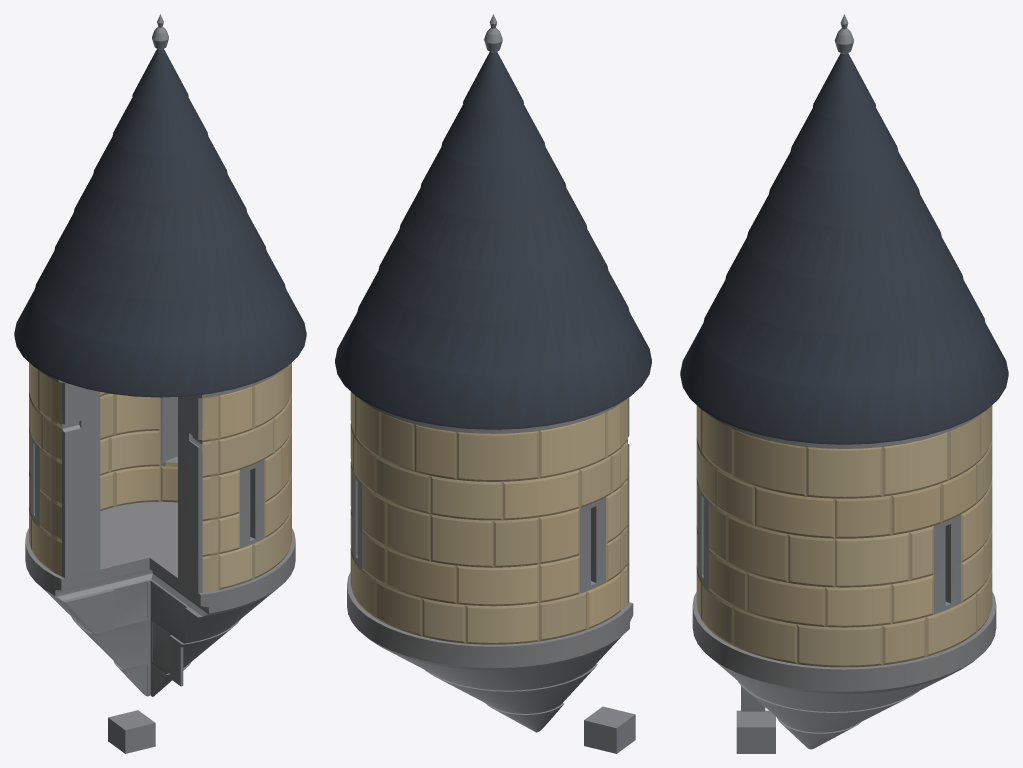
The picture shows the model from 3 angles, left to right: view 1: azimuth 30°, elevation 25°; view 2: azimuth 150°, elevation 25°; view 3: azimuth 270°, elevation 25°; orthographic projection. The views are drawn at different scales.
Visible parts, largest first — view 1: Mesh_Bartizan_ck-slate, Mesh_Bartizan_ck-granite-ashlar, Mesh_Bartizan_ck-limestone-ashlar; view 2: Mesh_Bartizan_ck-slate, Mesh_Bartizan_ck-limestone-ashlar, Mesh_Bartizan_ck-granite-ashlar; view 3: Mesh_Bartizan_ck-slate, Mesh_Bartizan_ck-limestone-ashlar, Mesh_Bartizan_ck-granite-ashlar.
Part boxes in pixels (bbox=[...]): Mesh_Bartizan_ck-slate: bbox=[14, 49, 306, 397]; Mesh_Bartizan_ck-granite-ashlar: bbox=[25, 14, 295, 753]; Mesh_Bartizan_ck-limestone-ashlar: bbox=[29, 362, 291, 592]; Mesh_Bartizan_ck-slate: bbox=[335, 52, 651, 429]; Mesh_Bartizan_ck-limestone-ashlar: bbox=[350, 391, 627, 644]; Mesh_Bartizan_ck-granite-ashlar: bbox=[347, 14, 635, 753]; Mesh_Bartizan_ck-slate: bbox=[680, 53, 1008, 444]; Mesh_Bartizan_ck-limestone-ashlar: bbox=[696, 405, 992, 667]; Mesh_Bartizan_ck-granite-ashlar: bbox=[692, 14, 996, 753].
Size of the model in its own units: 3.35 by 8.66 by 3.35.
